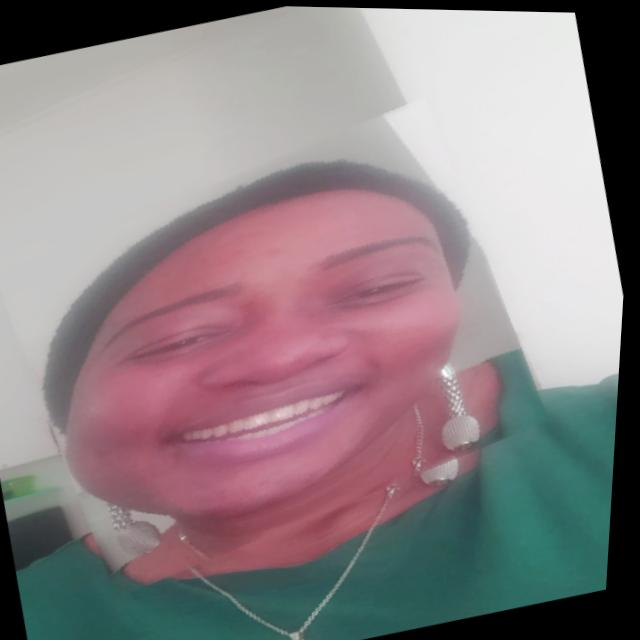happy: (0, 95, 569, 597)
